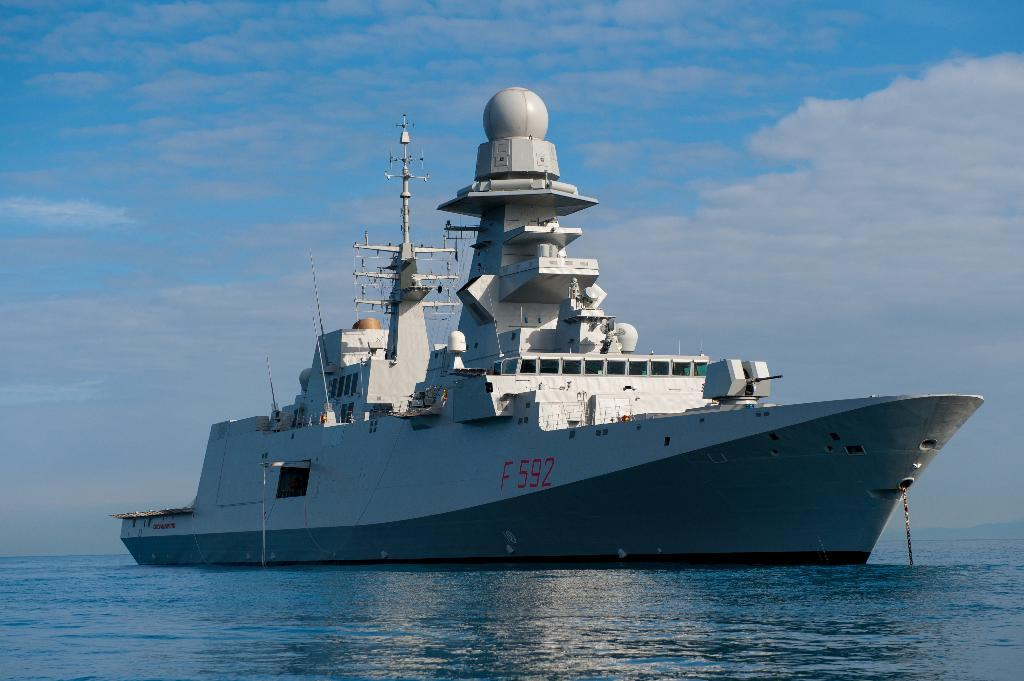Warship: (116, 64, 988, 572)
